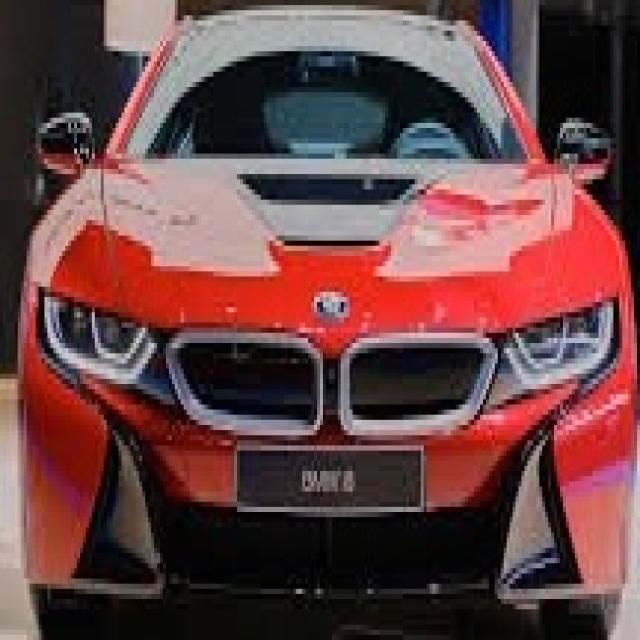red: (20, 0, 640, 604)
